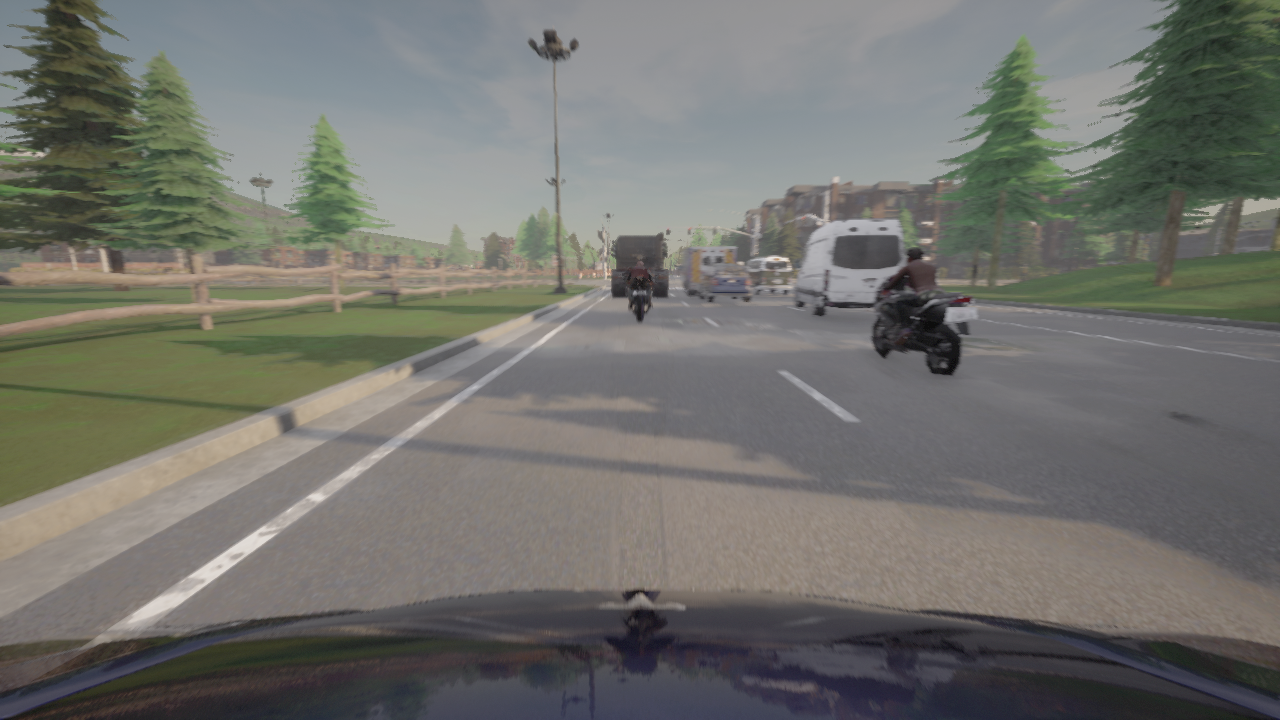cyclist: (0, 588, 1279, 719), (863, 275, 976, 375), (794, 219, 904, 315), (612, 233, 667, 296), (678, 246, 736, 295), (699, 264, 751, 302), (742, 256, 791, 294), (624, 273, 655, 321)
